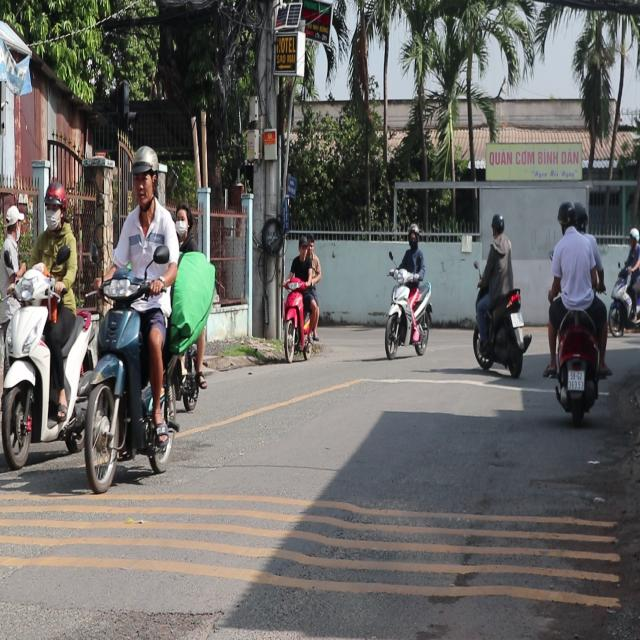helmet: (130, 144, 160, 212), (42, 180, 68, 228), (557, 197, 576, 232), (573, 200, 588, 232)
licenseplate: (80, 143, 178, 489), (0, 178, 92, 468), (543, 197, 610, 424), (161, 198, 216, 412)
motorcyclist: (174, 201, 192, 240)
nohelmet: (567, 370, 583, 389)
